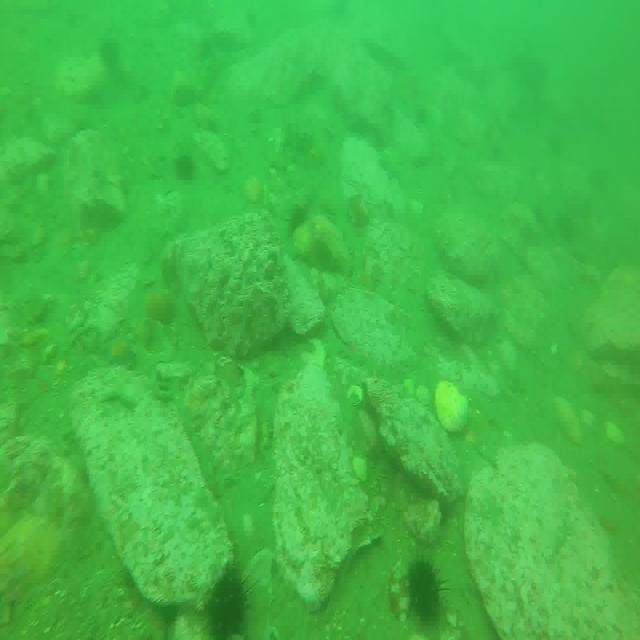echinus: (207, 571, 246, 640), (408, 553, 441, 624)
starfish: (105, 331, 134, 369)
